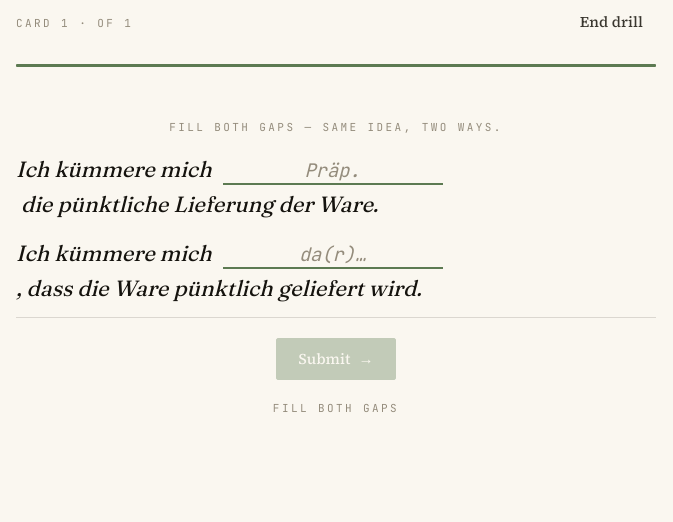
Test case: ParaphraseRunner — smoke tests › shows success feedback when both slots are correct
Type "um" into the field with placeholder "Präp." at (332, 171), box left=222, top=158, right=442, bottom=185
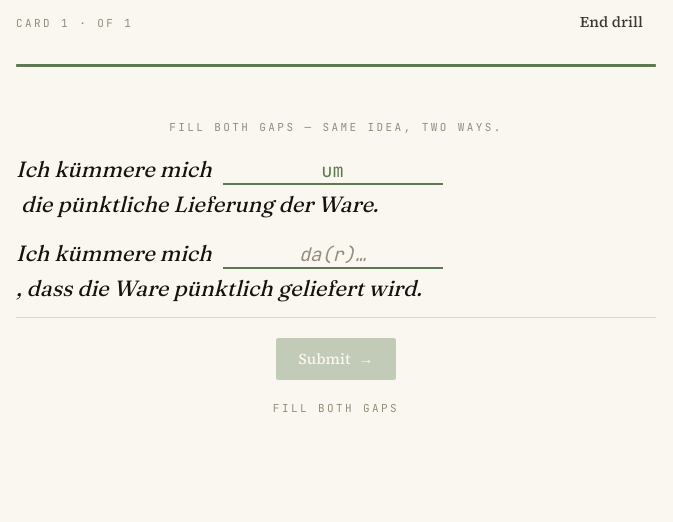
Type "darum" into the field with placeholder "da(r)…" at (332, 255), box left=222, top=242, right=442, bottom=269
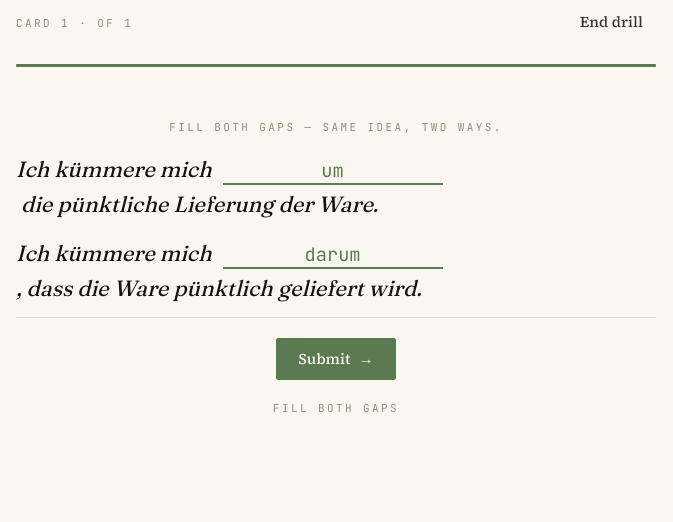
Click the button "Submit →" at (336, 359), box left=276, top=338, right=396, bottom=380
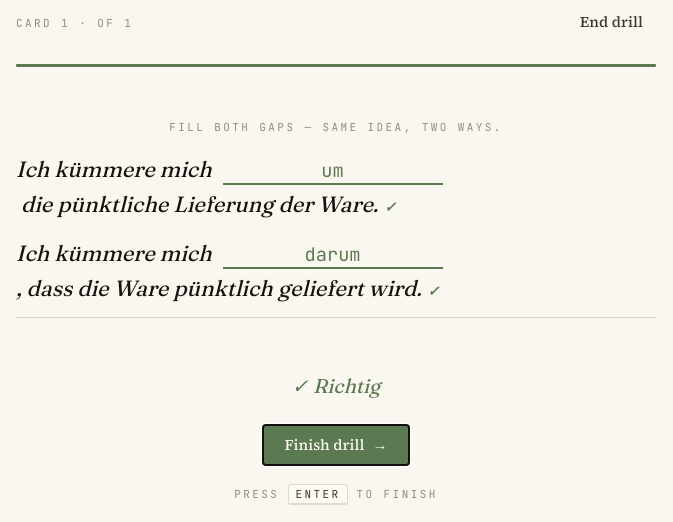
Now the text "✓ Richtig" is shown, box left=292, top=370, right=380, bottom=402
